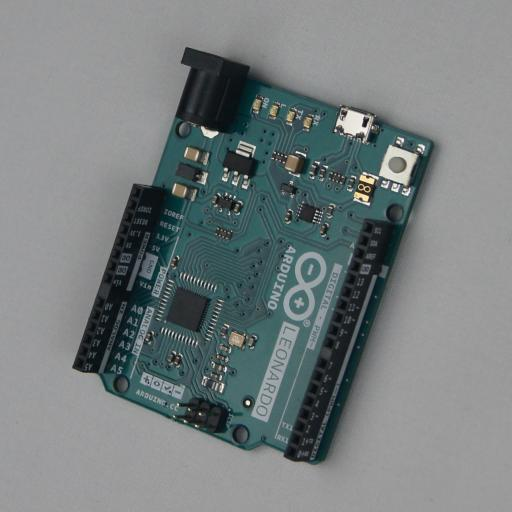Arduino Leonardo: (72, 47, 438, 465)
